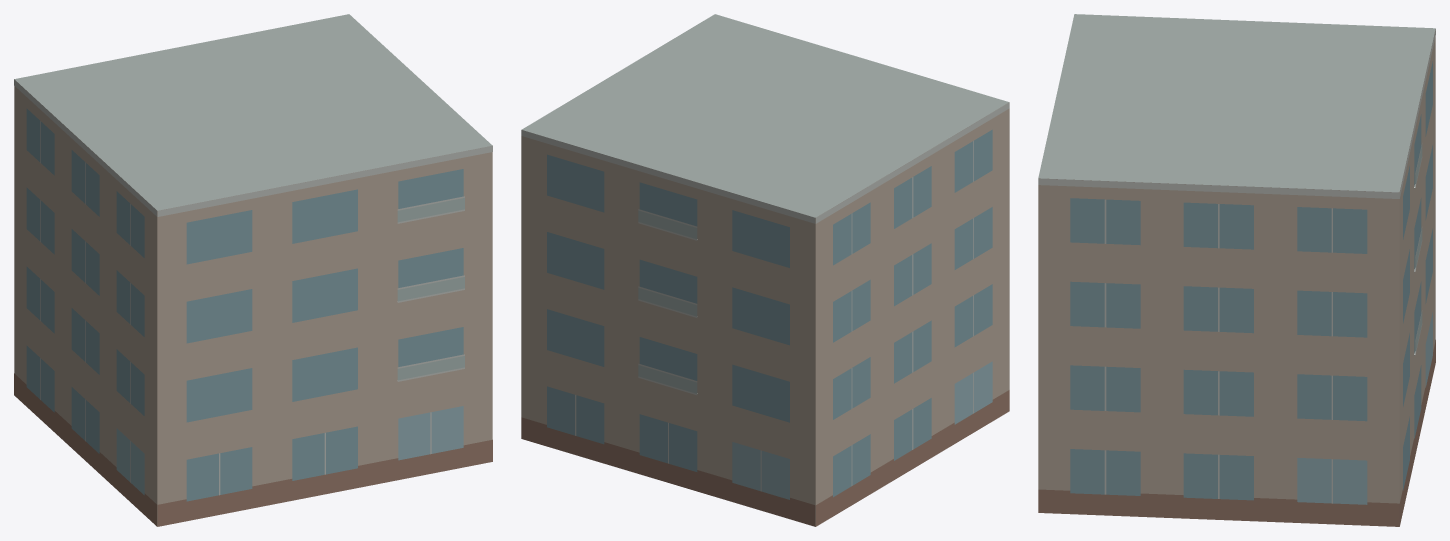
File: survey-upis-32811914.glb
The picture shows the model from 3 angles, left to right: view 1: azimuth 30°, elevation 25°; view 2: azimuth 150°, elevation 25°; view 3: azimuth 270°, elevation 25°; orthographic projection. The views are drawn at different scales.
Visible parts, largest first — view 1: survey-upis-32811914.tmp; view 2: survey-upis-32811914.tmp; view 3: survey-upis-32811914.tmp.
Boxes of the visible parts, <box> form: survey-upis-32811914.tmp: <box>14,14,492,526</box>; survey-upis-32811914.tmp: <box>521,14,1009,526</box>; survey-upis-32811914.tmp: <box>1038,14,1435,526</box>.
Size of the model in its own units: 13.97 by 12.2 by 13.15.
